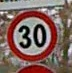limite 30: (4, 8, 59, 62)
